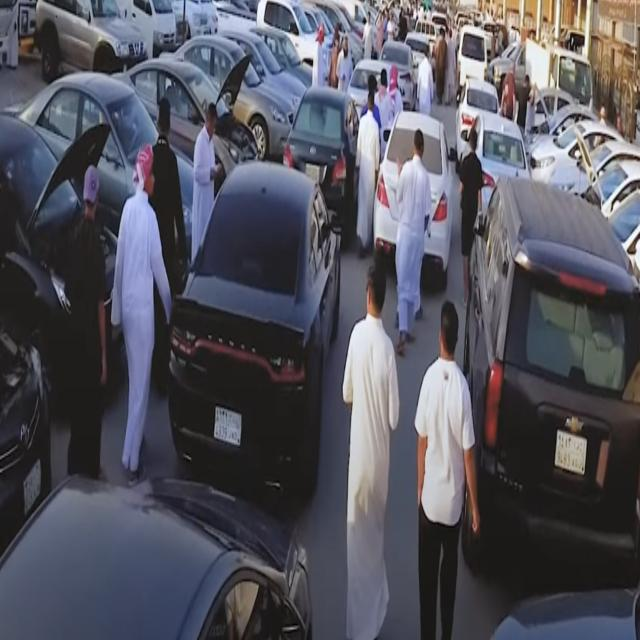license_plate: (552, 428, 589, 482), (21, 453, 43, 524), (211, 402, 242, 450), (305, 164, 320, 184)
